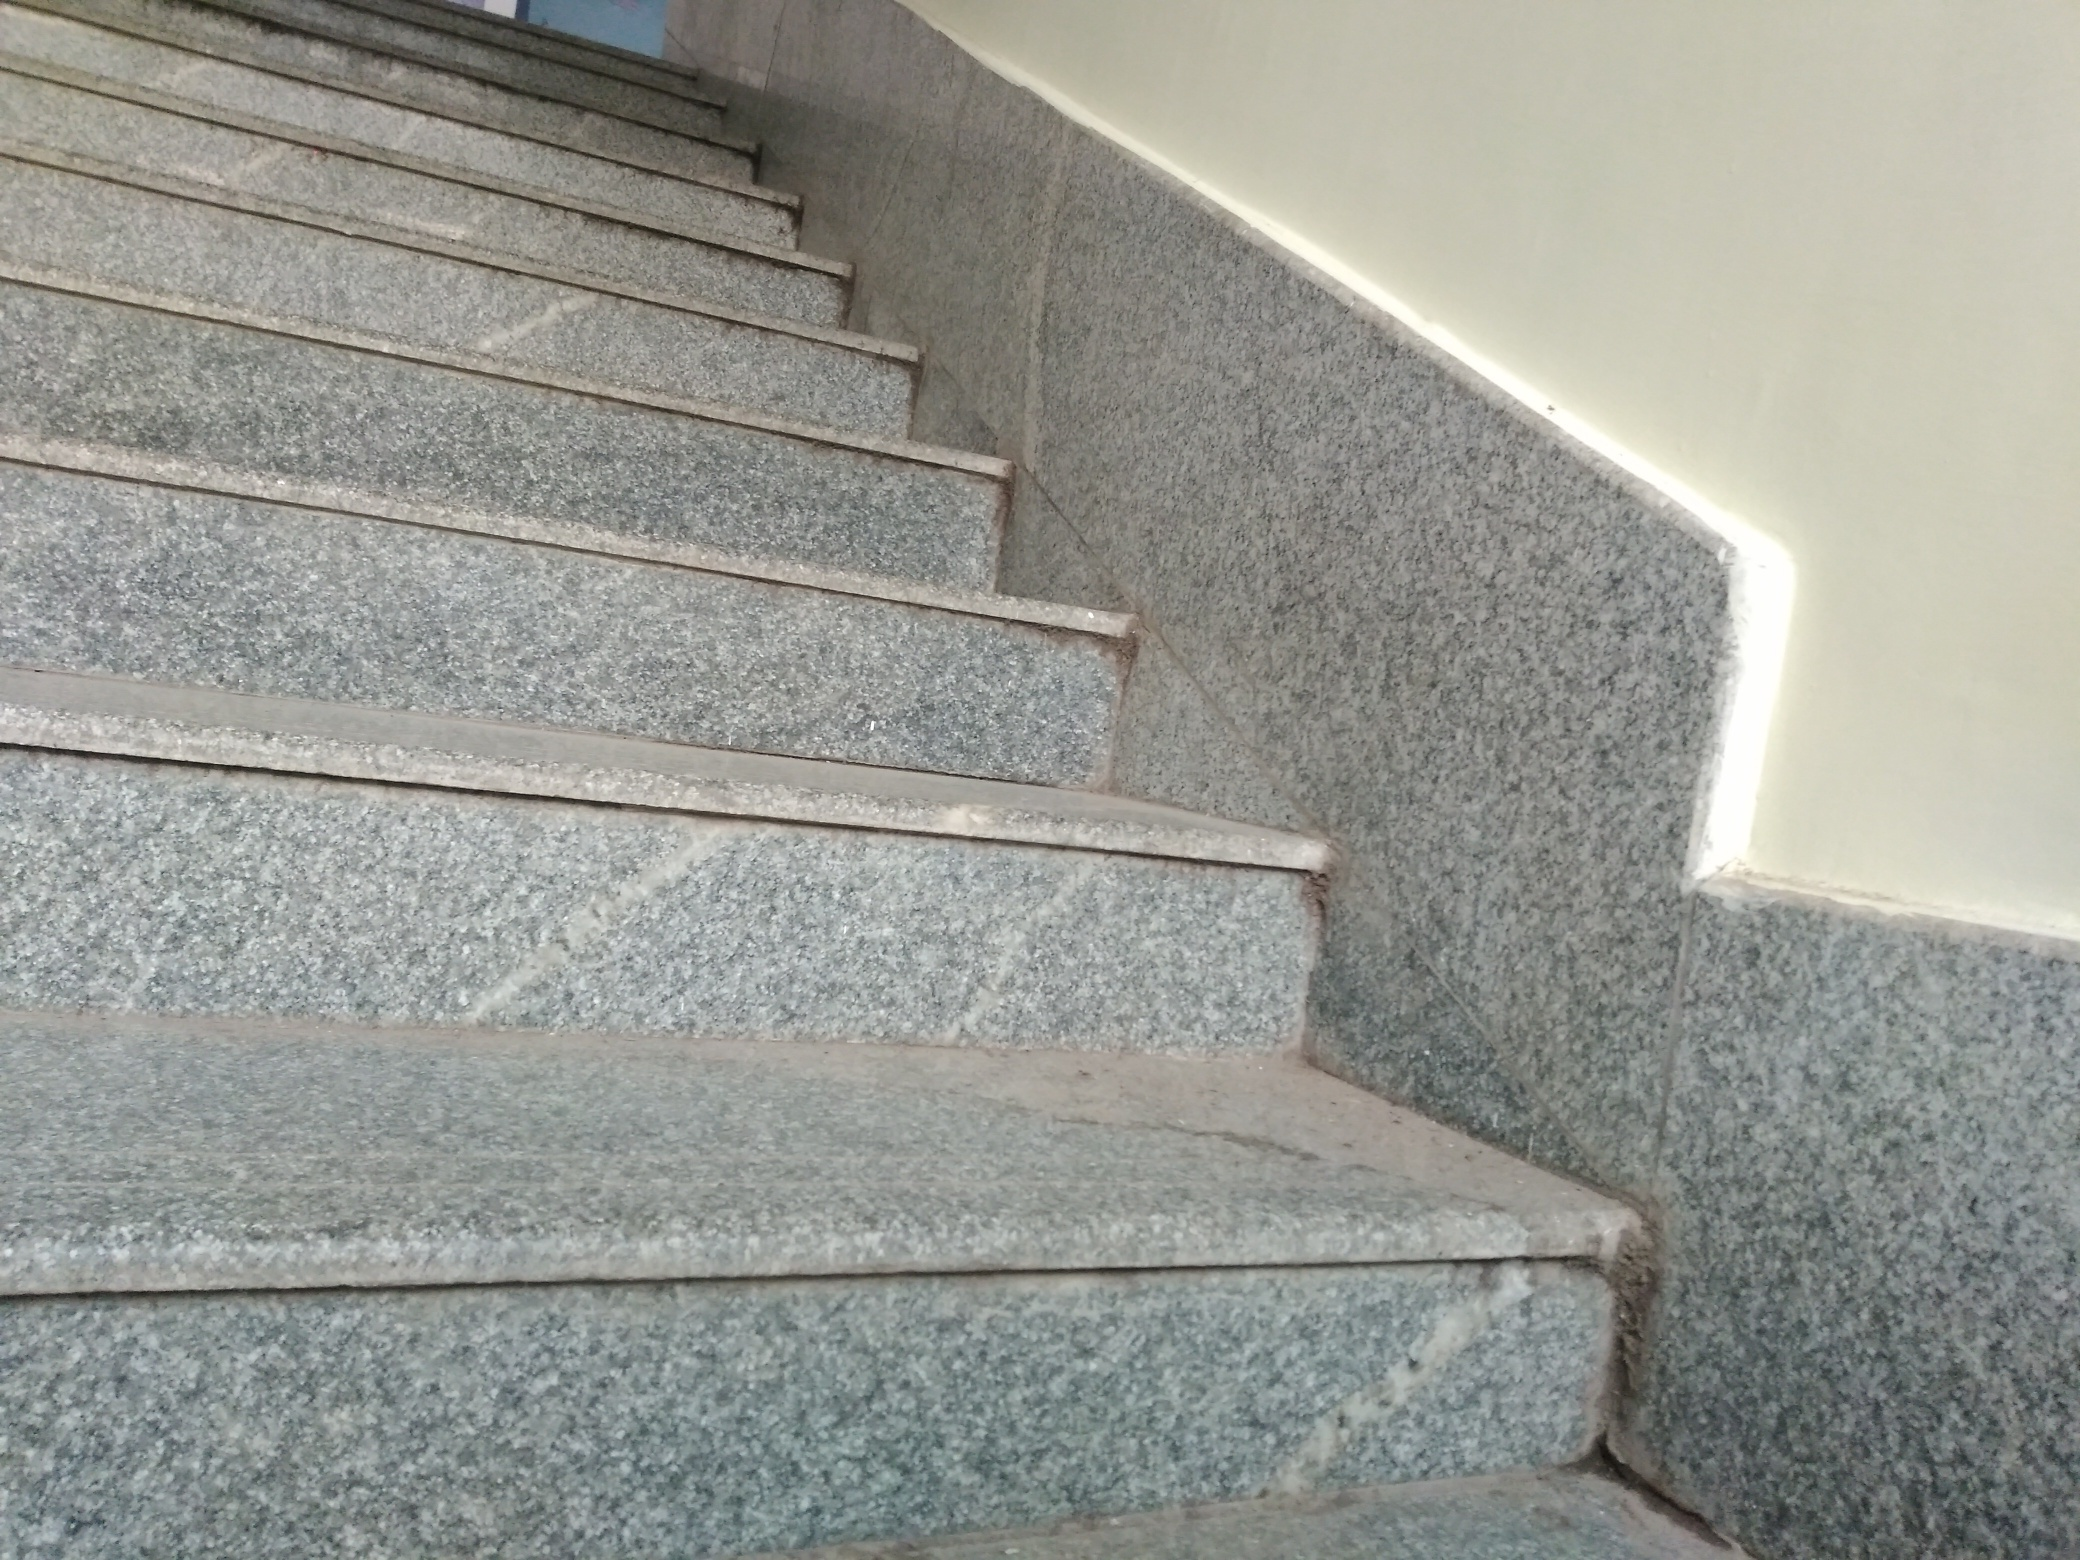stairs_up: (8, 16, 1643, 1539)
